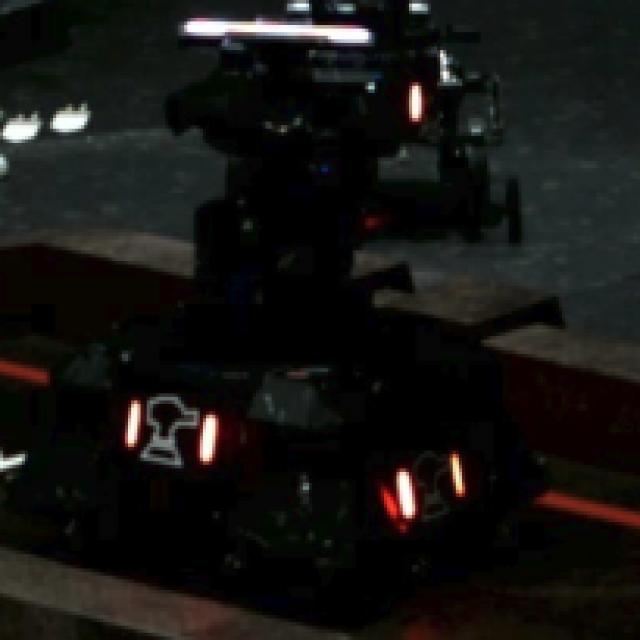Rs: (122, 386, 218, 479), (391, 454, 472, 533)
